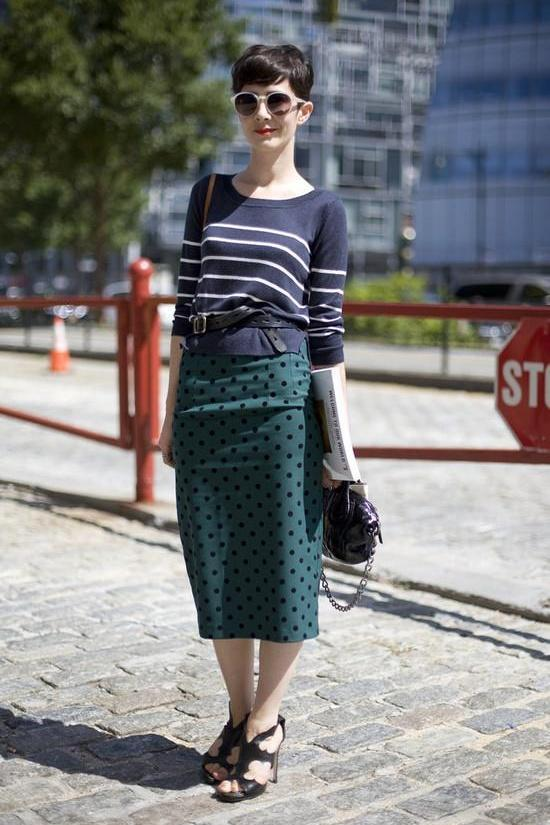Tshirt: (170, 174, 348, 364)
skirt: (170, 354, 352, 644)
